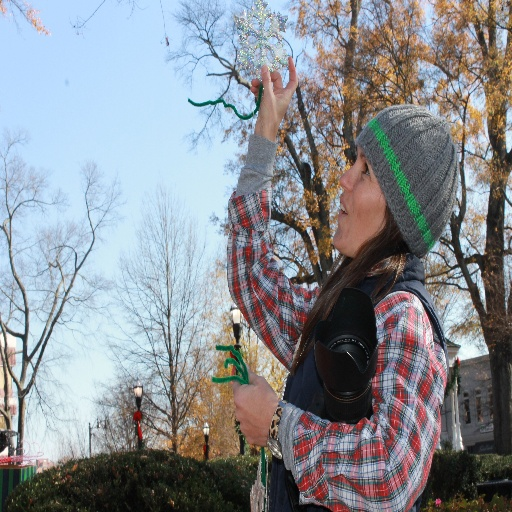hand: (229, 360, 279, 448), (255, 58, 300, 143)
